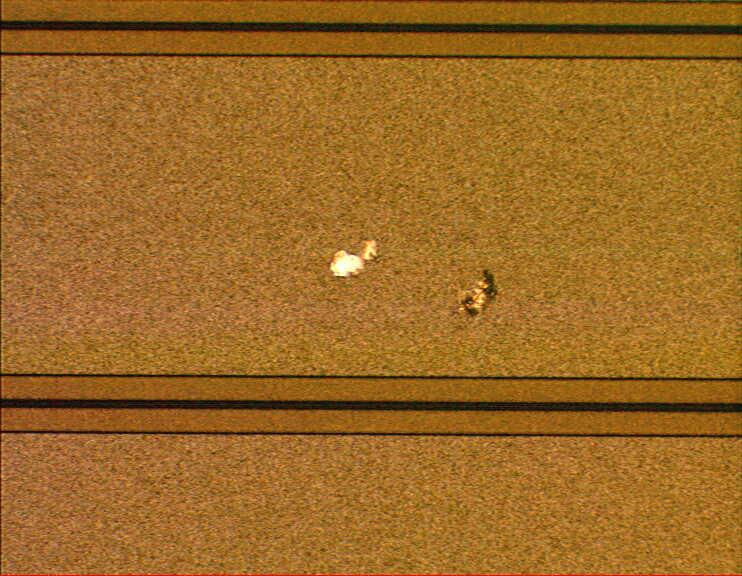SCRATCH: (313, 223, 534, 335)
